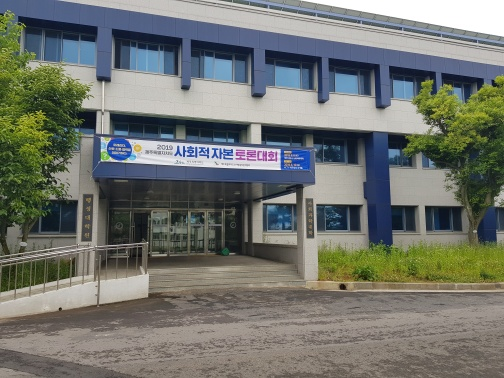College of Social Sciences: (15, 4, 504, 275), (66, 121, 327, 289), (82, 3, 403, 110)
